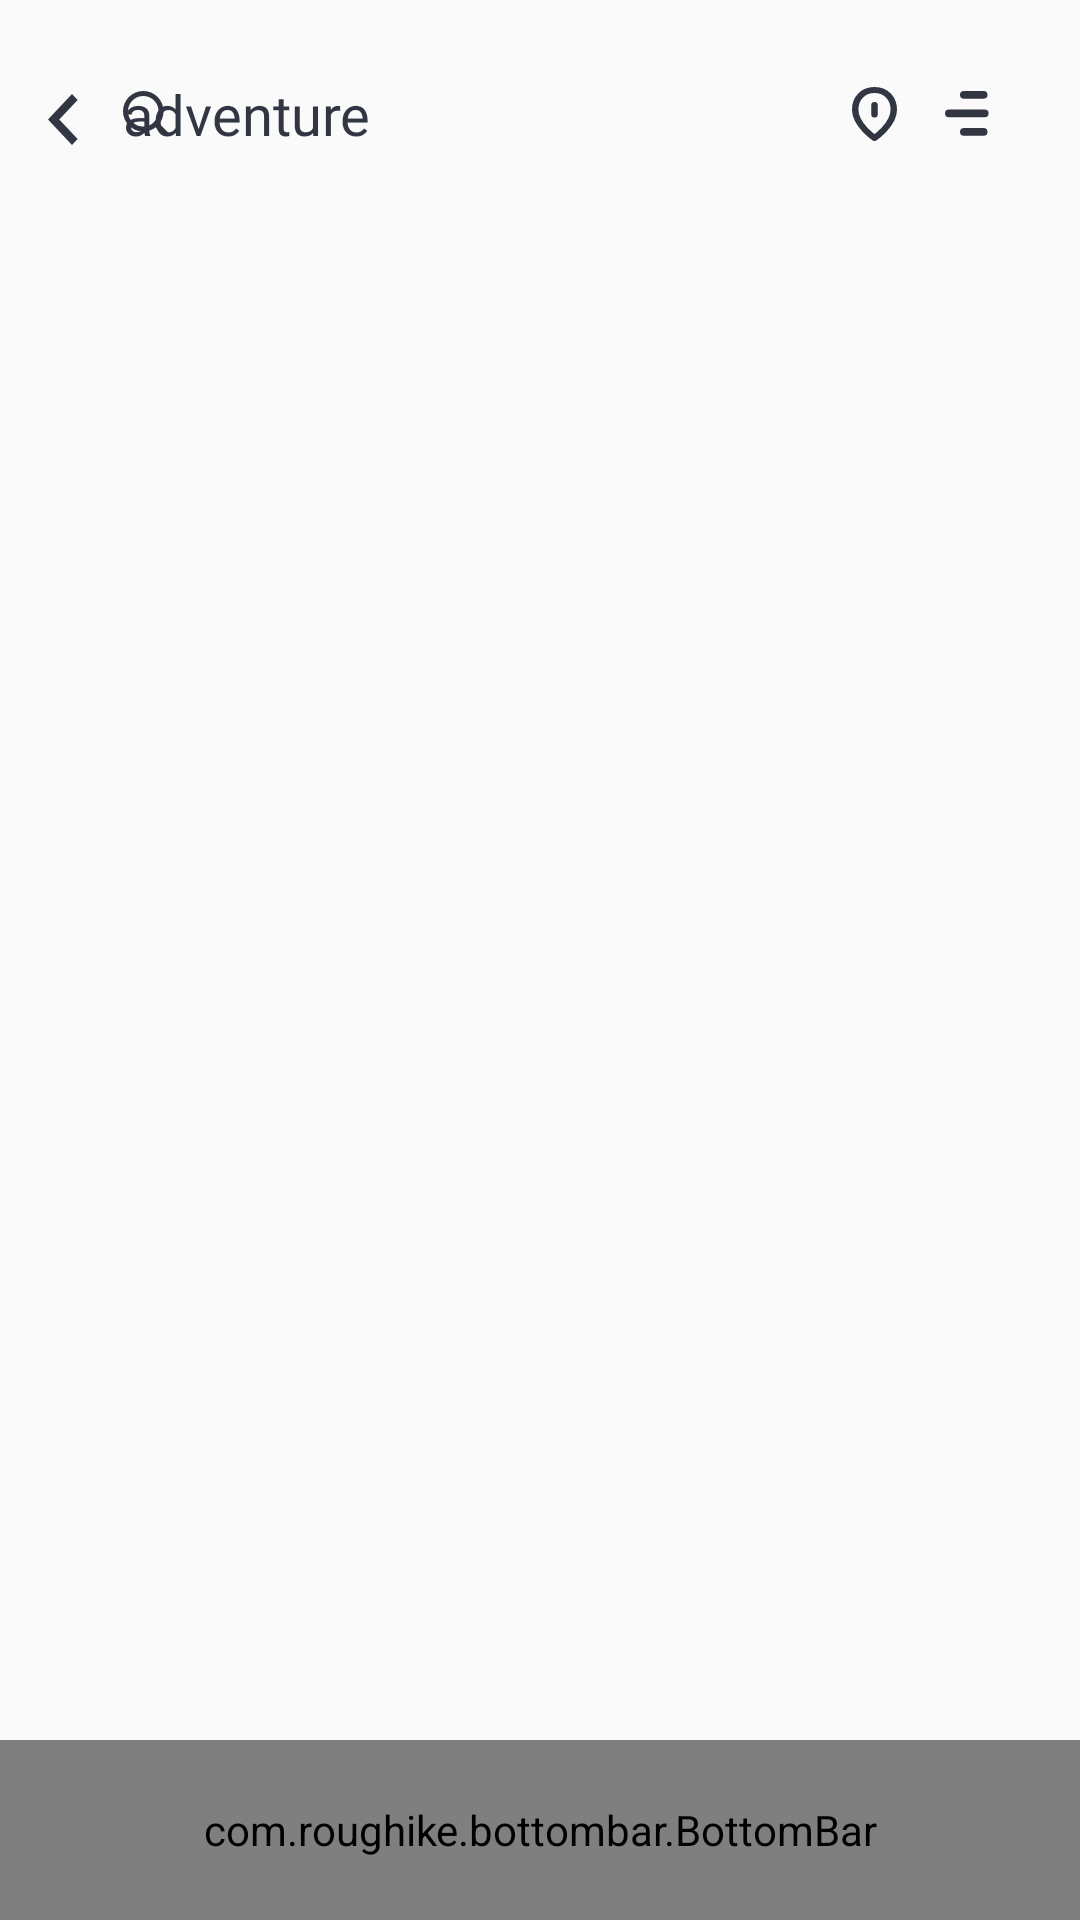

Icon click points for this 1080 × 1920 phone screenshot, format [x,y]:
back: [63,119]
location: [874,114]
menu: [967,113]
